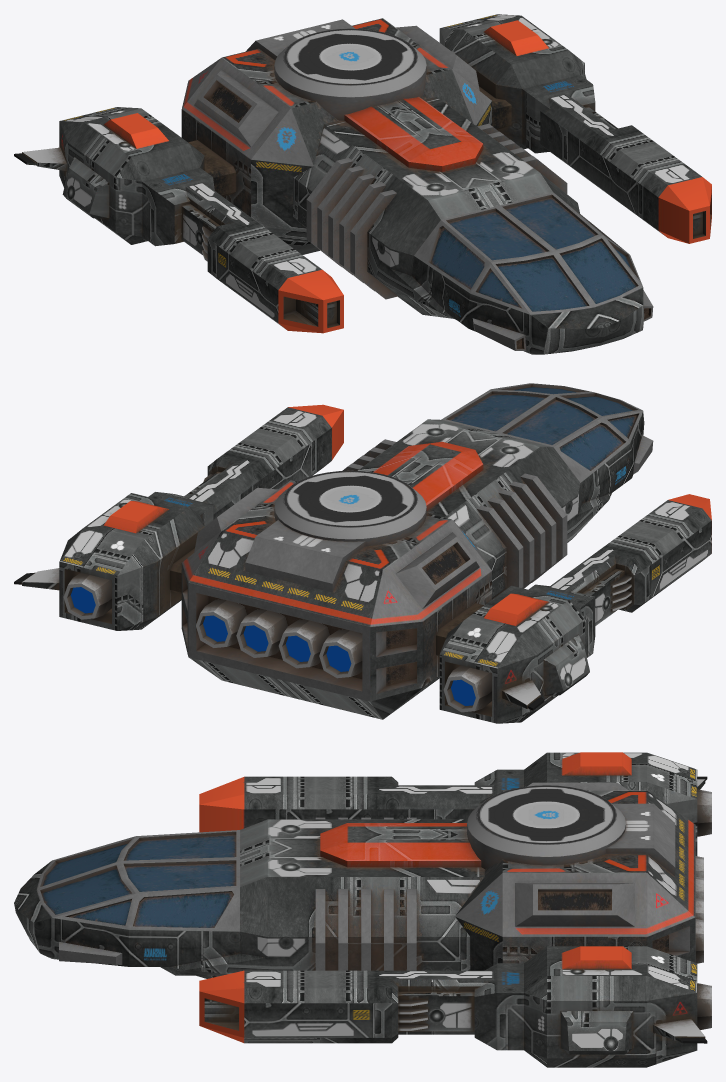
Rendered from jahship.glb.
3 renders of one model, top to bottom at view 1: azimuth 30°, elevation 25°; view 2: azimuth 150°, elevation 25°; view 3: azimuth 270°, elevation 25°, orthographic. The views are drawn at different scales.
Parts seen in each view (by area): view 1: craft, engine; view 2: craft, engine; view 3: craft, engine.
Boxes of the visible parts, x1,y1,x2,y2 form: craft: (181, 18, 653, 354); engine: (14, 14, 711, 333); craft: (181, 383, 653, 719); engine: (14, 404, 711, 723); craft: (14, 782, 695, 978); engine: (199, 752, 711, 1067).
Size of the model in its own units: 13.89 by 4.24 by 15.47.
4 materials, 3 textured.
